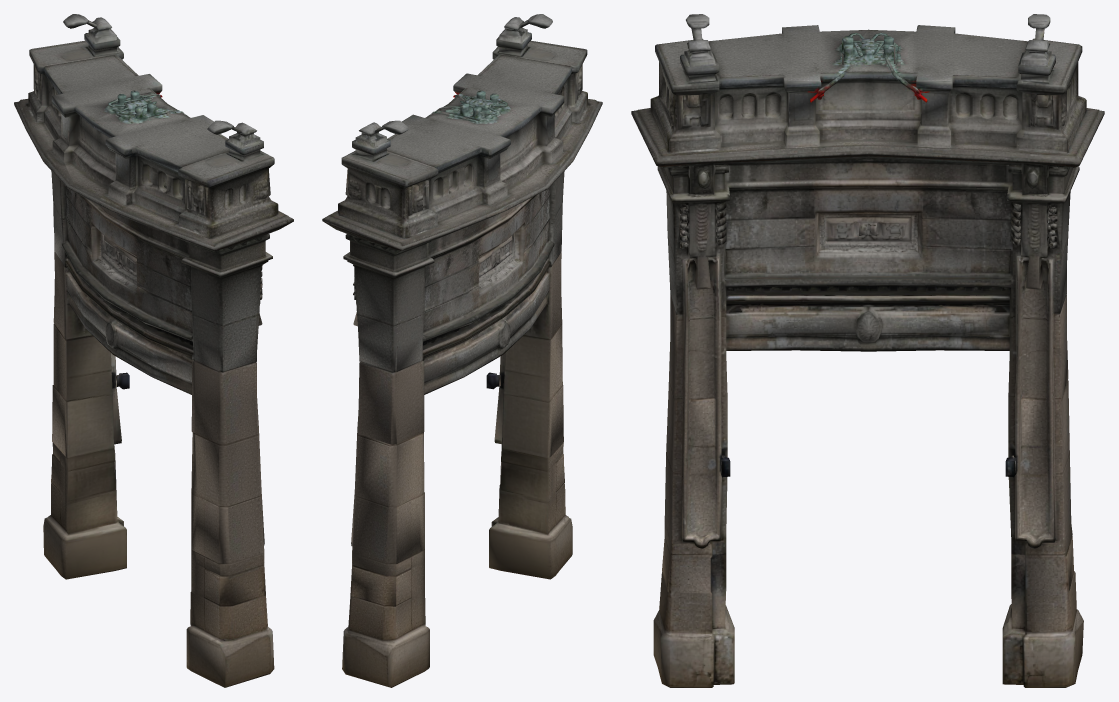
Rendered from tripo_convert_57cd591f-4a8b-4a1b-b3cd-592b2fd37ee8.fbx.
The picture shows the model from 3 angles, left to right: view 1: azimuth 30°, elevation 25°; view 2: azimuth 150°, elevation 25°; view 3: azimuth 270°, elevation 25°; orthographic projection. The views are drawn at different scales.
Parts seen in each view (by area): view 1: tripo_node_57cd591f; view 2: tripo_node_57cd591f; view 3: tripo_node_57cd591f.
Boxes of the visible parts, x1,y1,x2,y2 form: tripo_node_57cd591f: (14, 14, 293, 687); tripo_node_57cd591f: (322, 14, 602, 687); tripo_node_57cd591f: (631, 14, 1104, 687).
Bounding box in the file's own units: 0.2547 × 0.9784 × 0.6491.
Materials: 1 (1 with a texture image).
